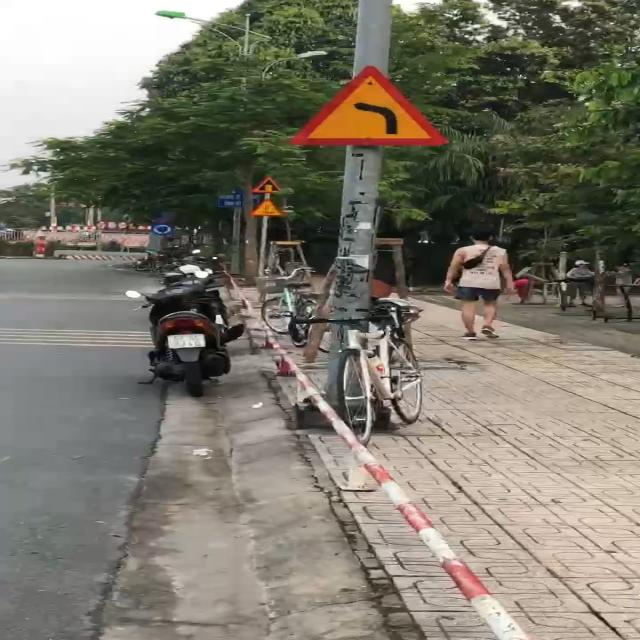Bien bao cho ngoat nguy hiem: (273, 64, 442, 158)
